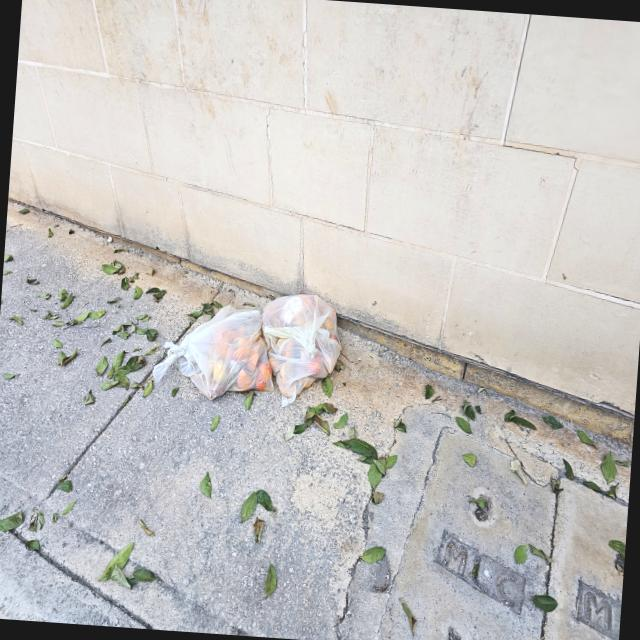white_bag: (149, 299, 281, 406), (255, 288, 346, 412)
